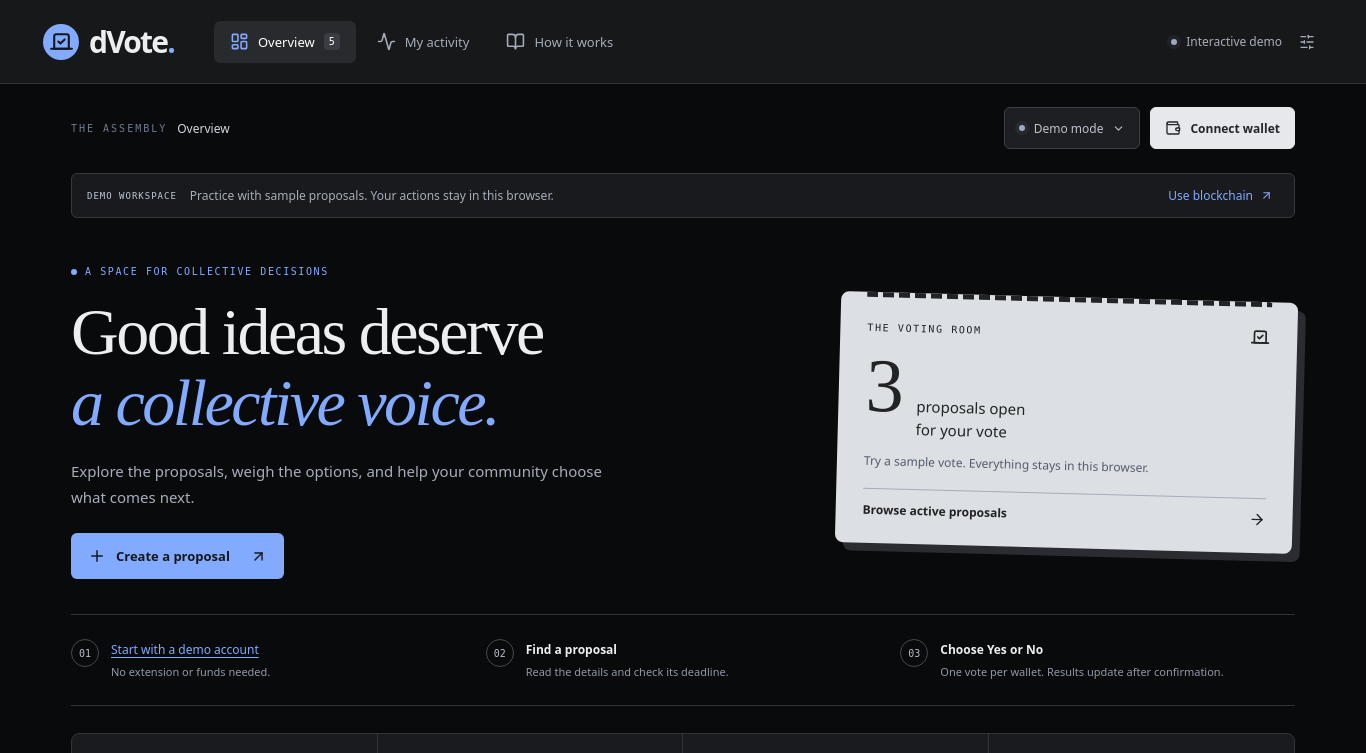
Test: dVote user flows › reflects account changes, disconnects and network changes
Click the button "Use blockchain" at (1221, 196), box [1162,186,1279,205]
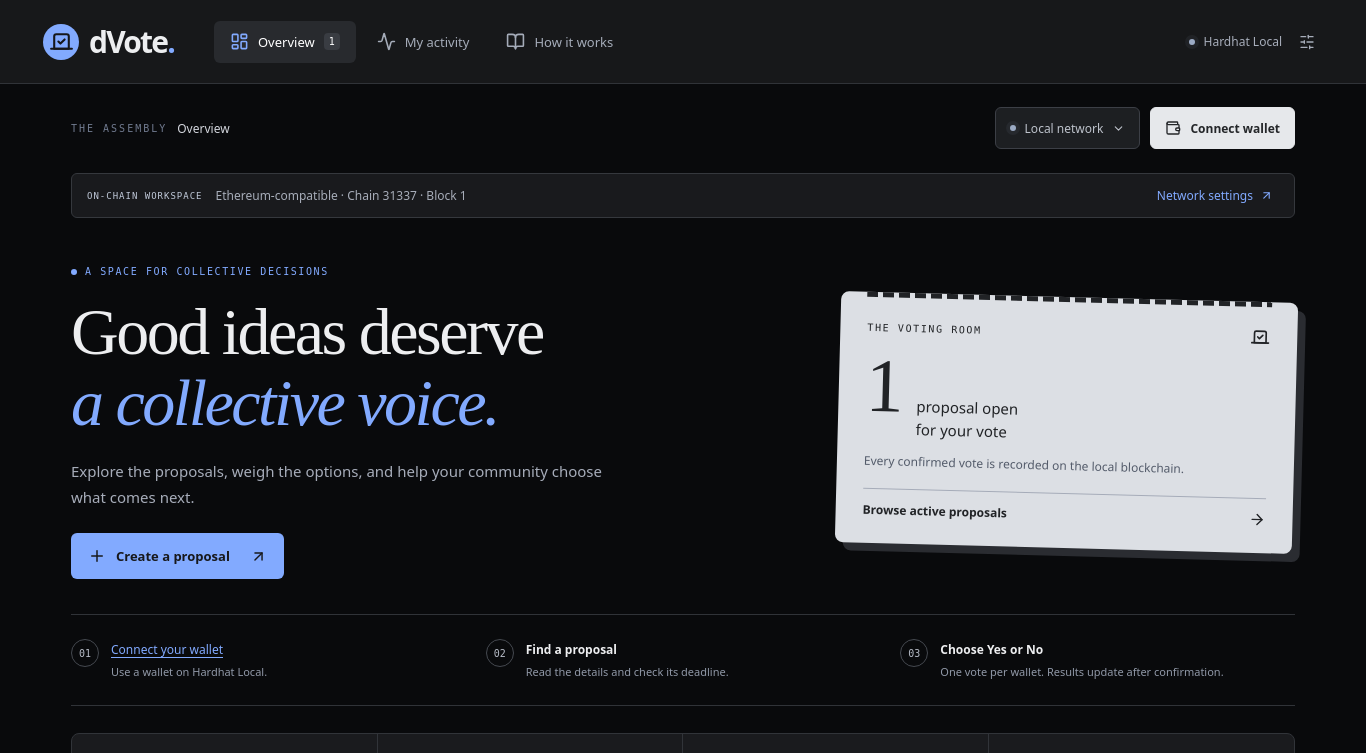
Click the button "Connect wallet" at (1223, 128), box [1150,107,1295,149]
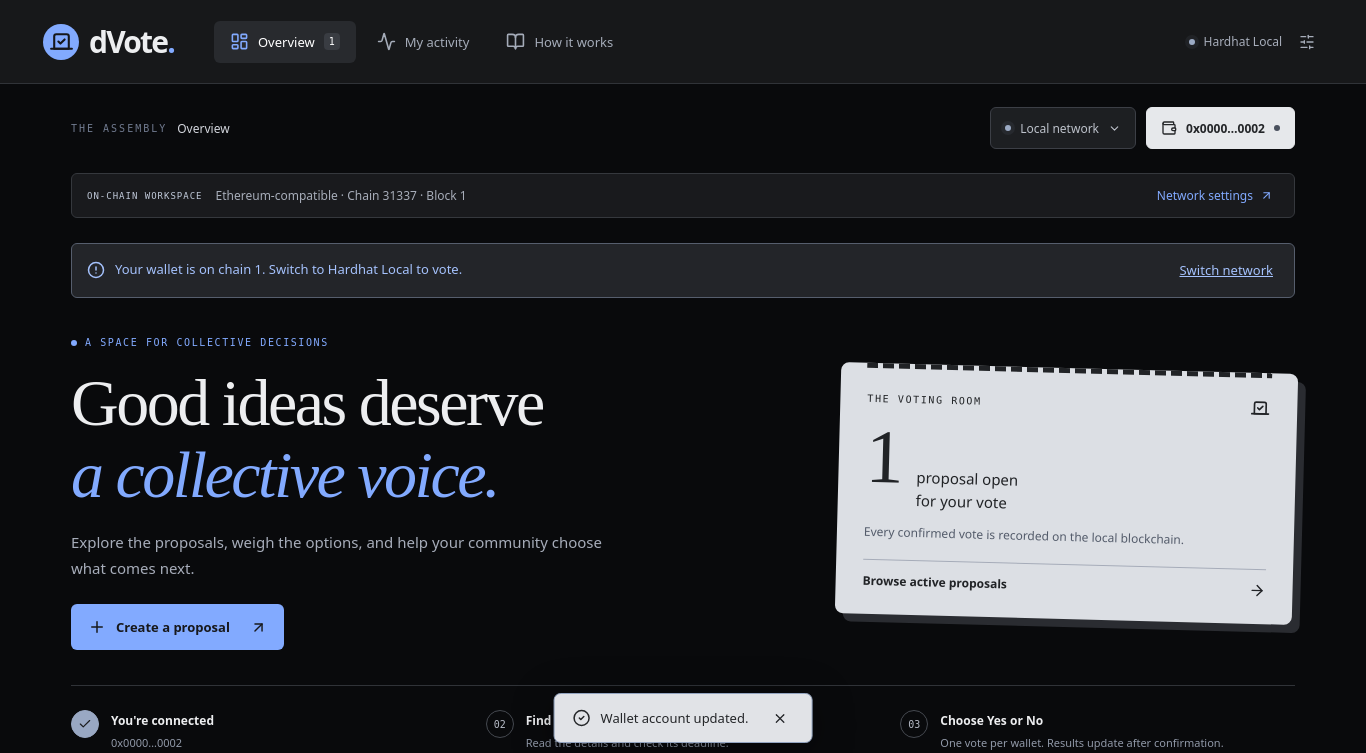
Now the text "Your wallet is on chain 1. Switch to Hardhat Local to vote." is shown, box [115,260,462,278]
Click the button "Switch network" at (1226, 271), box [1174,259,1279,282]
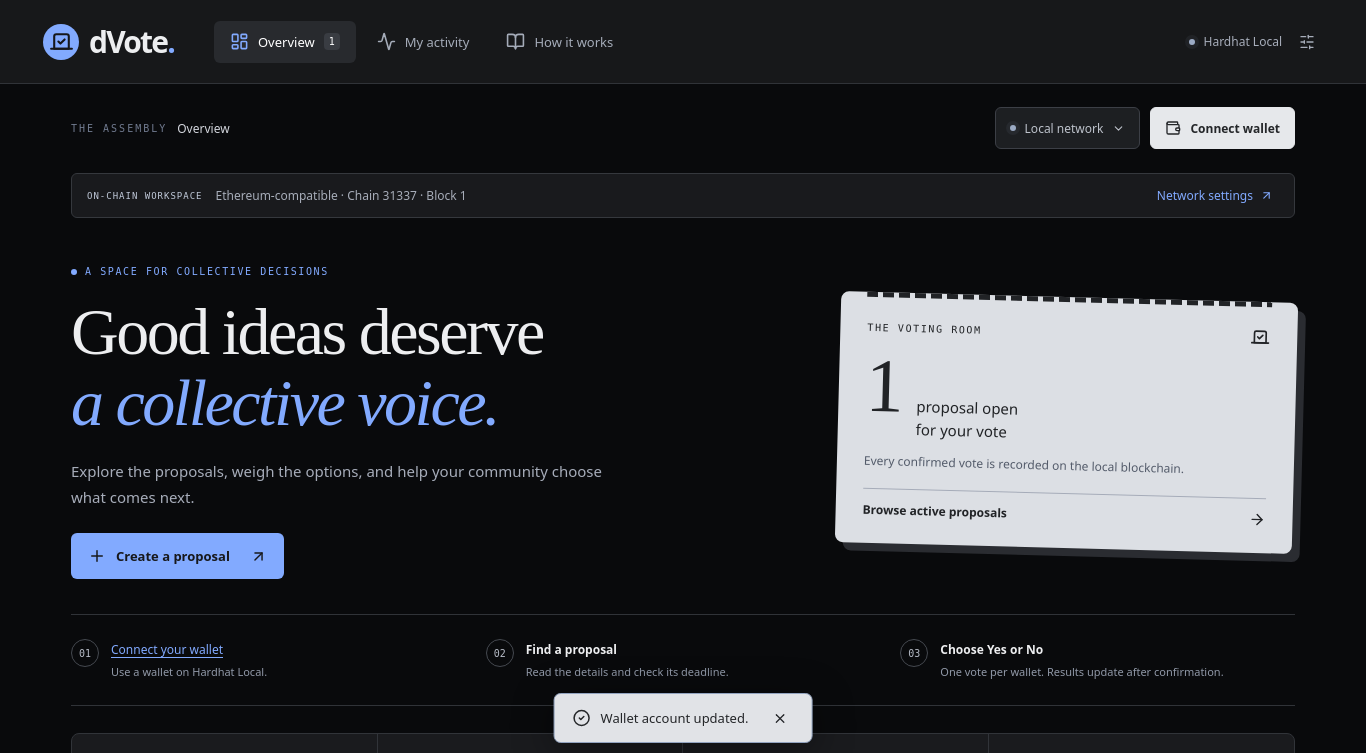
Now the button "Connect wallet" is shown, box [1150,107,1295,149]
